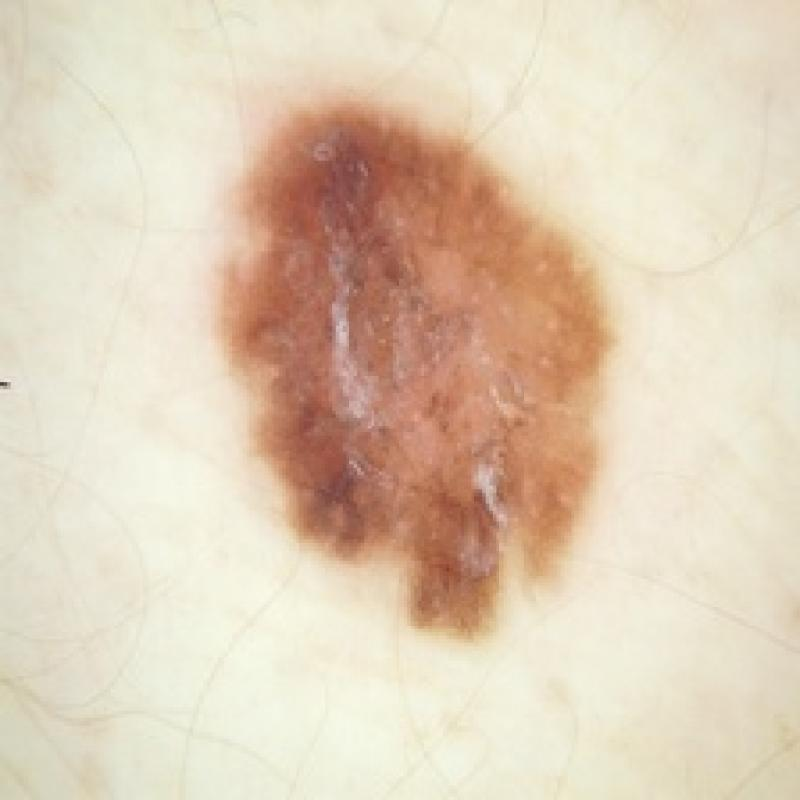malignant: (193, 60, 637, 665)
